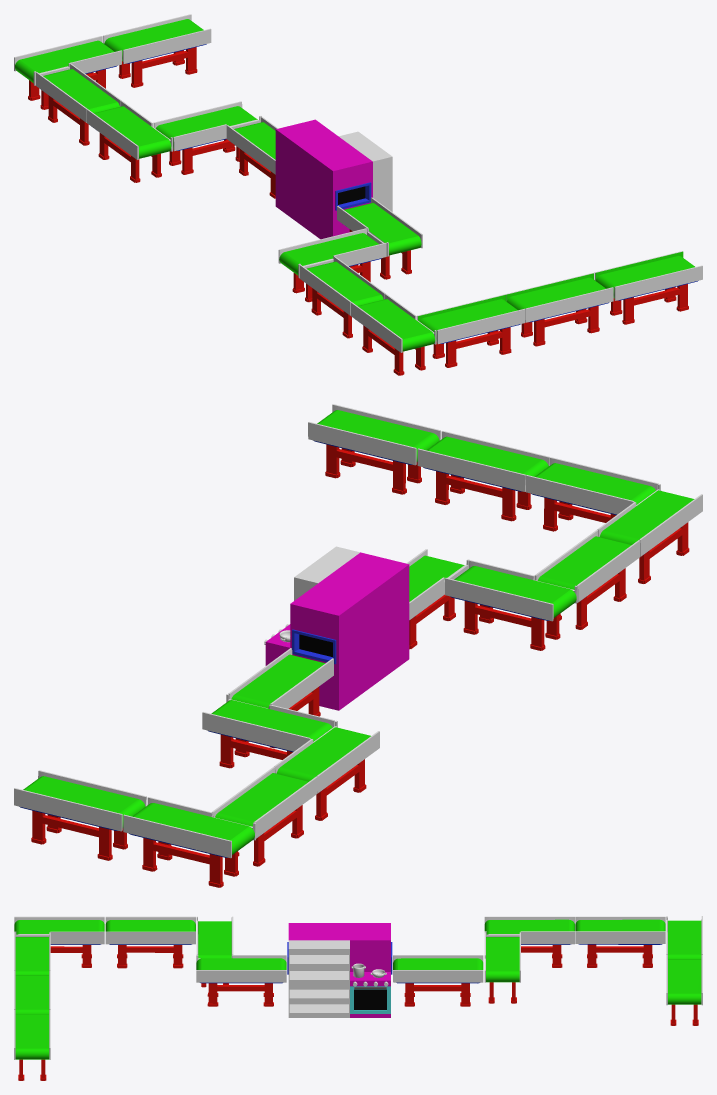
File: maschine_whole.fbx
The picture shows the model from 3 angles, top to bottom: view 1: azimuth 30°, elevation 25°; view 2: azimuth 150°, elevation 25°; view 3: azimuth 270°, elevation 25°; orthographic projection. The views are drawn at different scales.
Visible parts, largest first — view 1: conveyor, cooker; view 2: conveyor, cooker; view 3: conveyor, cooker.
Boxes of the visible parts, left/top/right/bottom form: conveyor: left=14, top=14, right=702, bottom=375; cooker: left=275, top=119, right=392, bottom=239; conveyor: left=14, top=404, right=702, bottom=887; cooker: left=265, top=546, right=409, bottom=710; conveyor: left=14, top=916, right=702, bottom=1080; cooker: left=287, top=923, right=392, bottom=1017.
Size of the model in its own units: 1525 by 372 by 3367.
